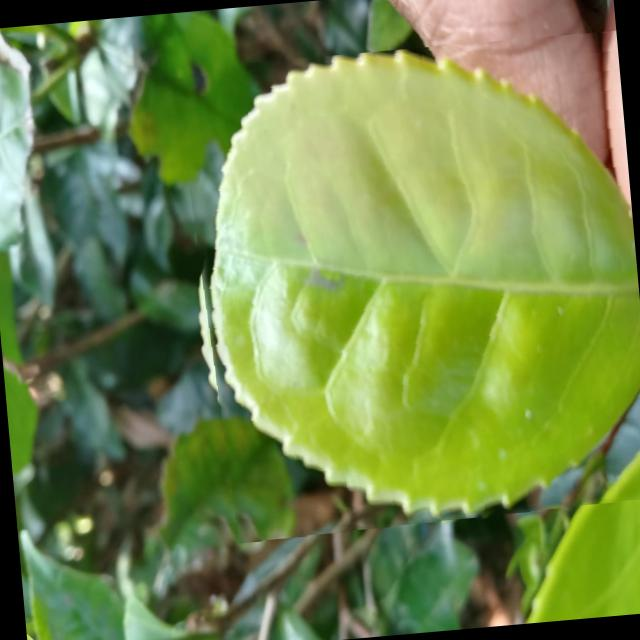Category B(2-4 days): (172, 29, 640, 544)
